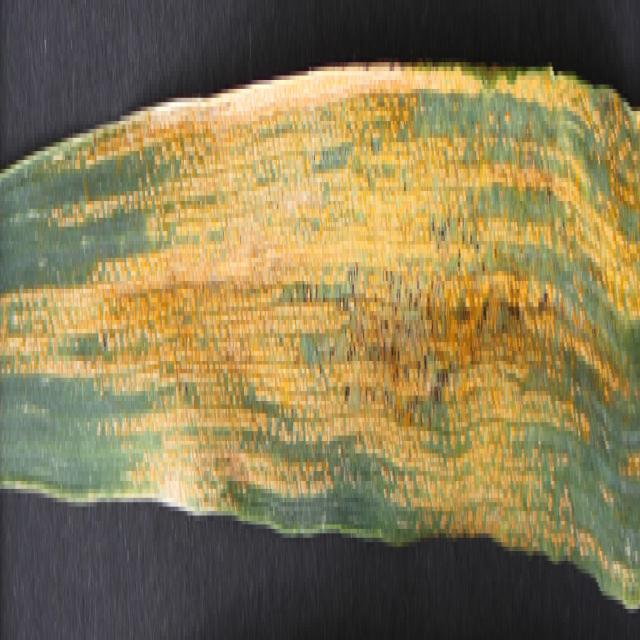leaf rust: (0, 53, 640, 573)
